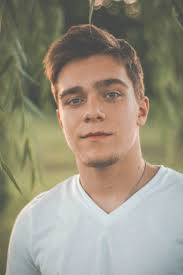bare: (58, 107, 141, 166)
